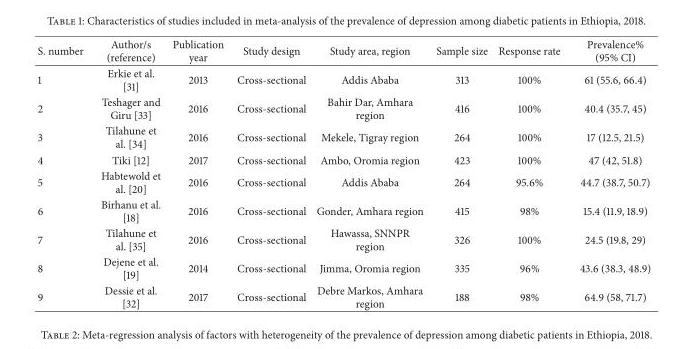table: (36, 36, 650, 310)
table column: (310, 36, 429, 310), (229, 36, 310, 310), (569, 36, 650, 310), (492, 36, 569, 310), (91, 36, 165, 310), (165, 36, 229, 310), (429, 36, 492, 310), (36, 36, 91, 310)
table column header: (36, 36, 650, 64)
table row: (36, 64, 650, 93), (36, 93, 650, 122), (36, 122, 650, 151), (36, 167, 650, 196), (36, 224, 650, 253), (36, 253, 650, 282), (36, 36, 650, 64), (36, 196, 650, 224), (36, 282, 650, 310), (36, 151, 650, 167)
